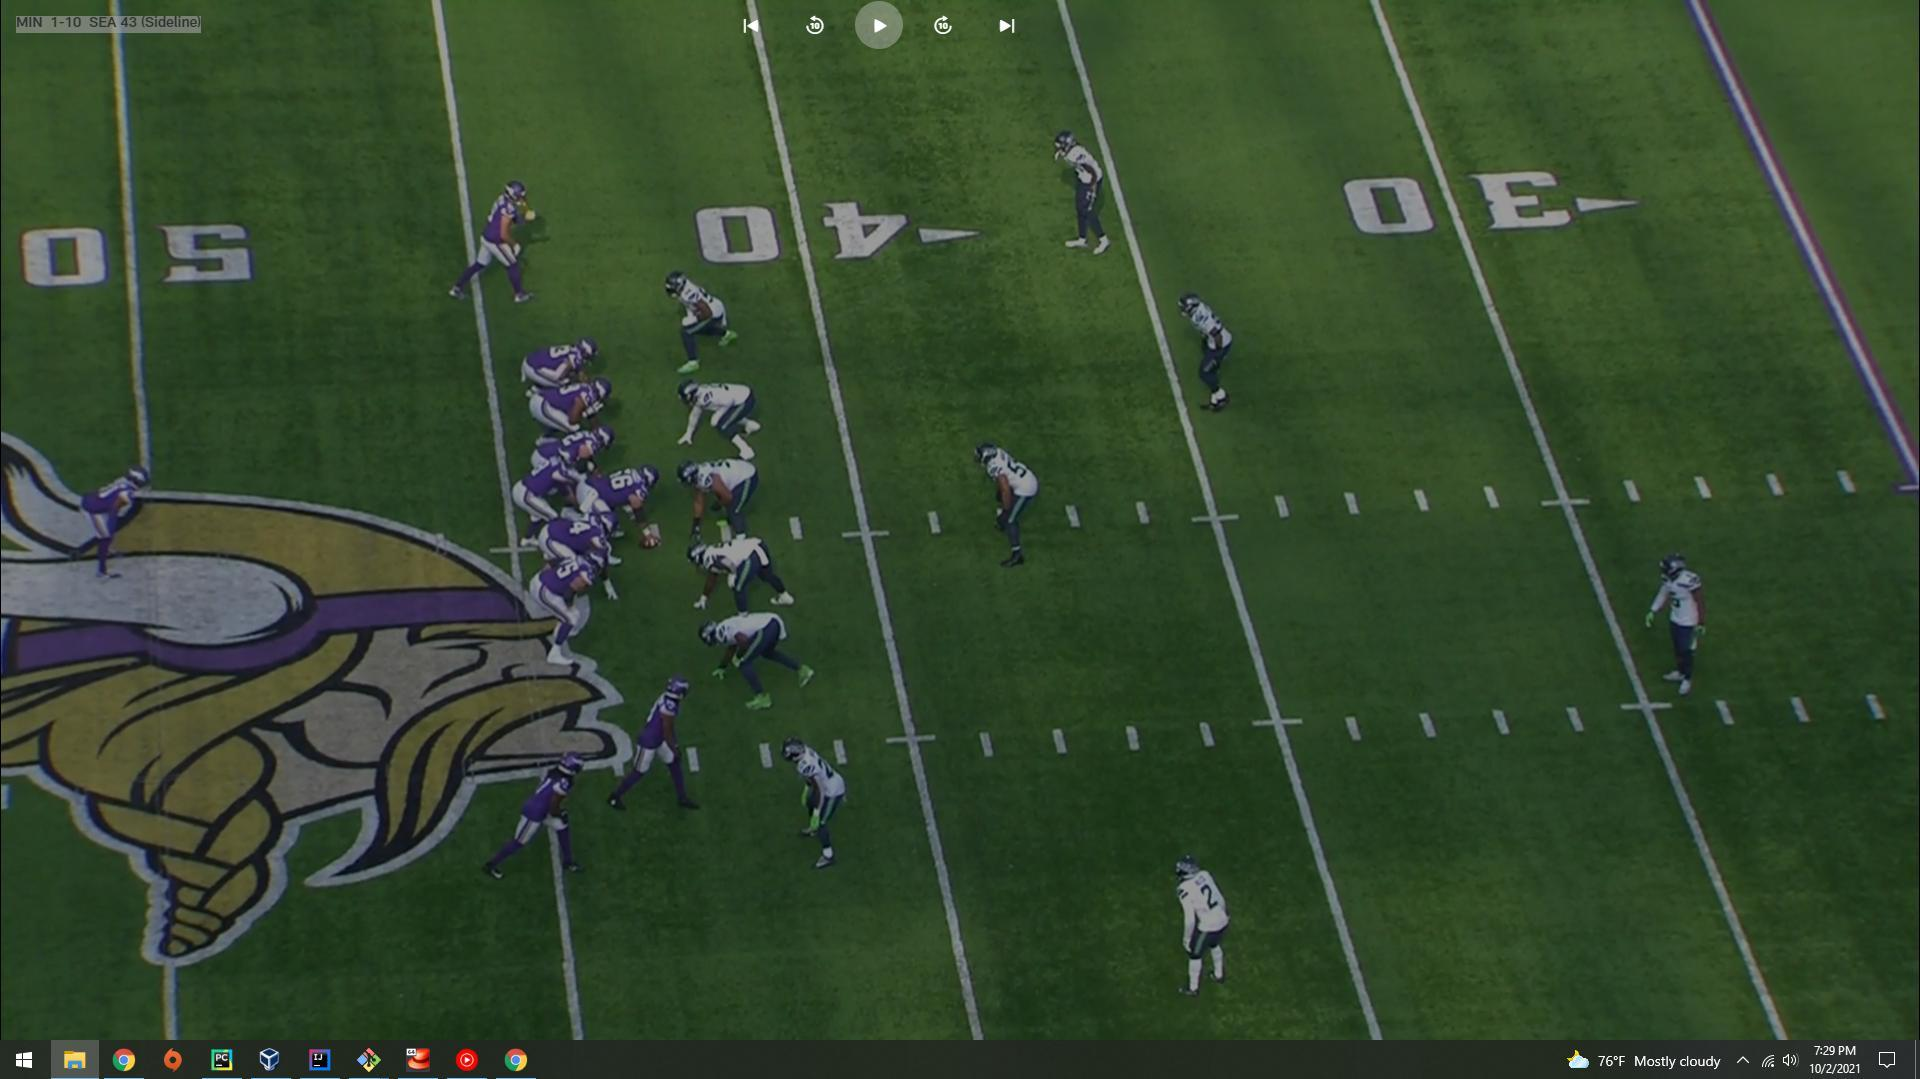player: (603, 676, 703, 819), (479, 756, 588, 886), (447, 177, 551, 311), (697, 610, 819, 713), (528, 546, 610, 673), (1169, 849, 1235, 1001), (784, 733, 854, 872), (977, 438, 1046, 574), (1048, 128, 1117, 263), (1650, 552, 1711, 703), (681, 538, 795, 617), (535, 508, 621, 604), (1176, 290, 1241, 417), (75, 467, 141, 591), (512, 444, 584, 556), (660, 266, 733, 376), (576, 462, 664, 551), (675, 379, 770, 460), (680, 457, 769, 540), (532, 376, 613, 451), (519, 336, 598, 409), (532, 427, 616, 484)
